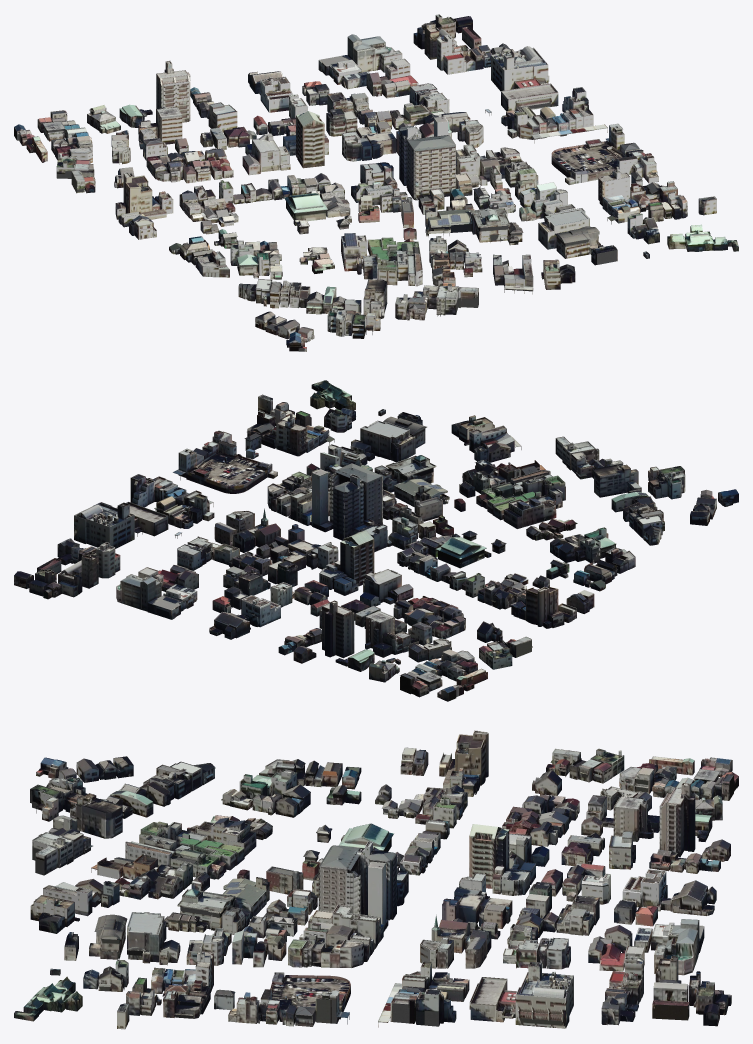
The model's file is station-5-0-packed.glb.
3 renders of one model, top to bottom at view 1: azimuth 30°, elevation 25°; view 2: azimuth 150°, elevation 25°; view 3: azimuth 270°, elevation 25°, orthographic. The views are drawn at different scales.
Bounding box in the file's own units: 313 × 39.97 × 353.
Materials: 16 (15 with a texture image).
